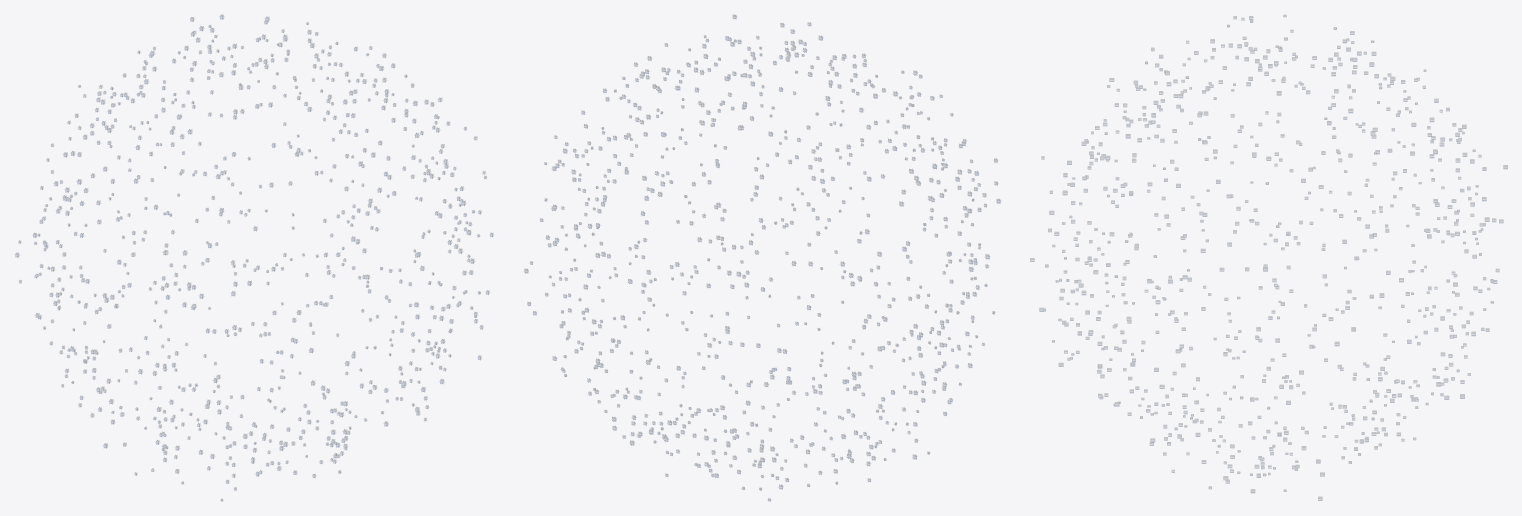
The model's file is fw_chrys_gold_silver_c.glb.
3 views of the same model, side by side, from view 1: azimuth 30°, elevation 25°; view 2: azimuth 150°, elevation 25°; view 3: azimuth 270°, elevation 25° (orthographic).
Parts seen in each view (by area): view 1: spire; view 2: spire; view 3: spire.
Part boxes in pixels (x1=…): spire: x1=14, y1=14, x2=494, y2=501; spire: x1=523, y1=14, x2=1001, y2=501; spire: x1=1030, y1=14, x2=1507, y2=500.
Size of the model in its own units: 27.4 by 27.22 by 27.1.
1 material, 1 textured.
